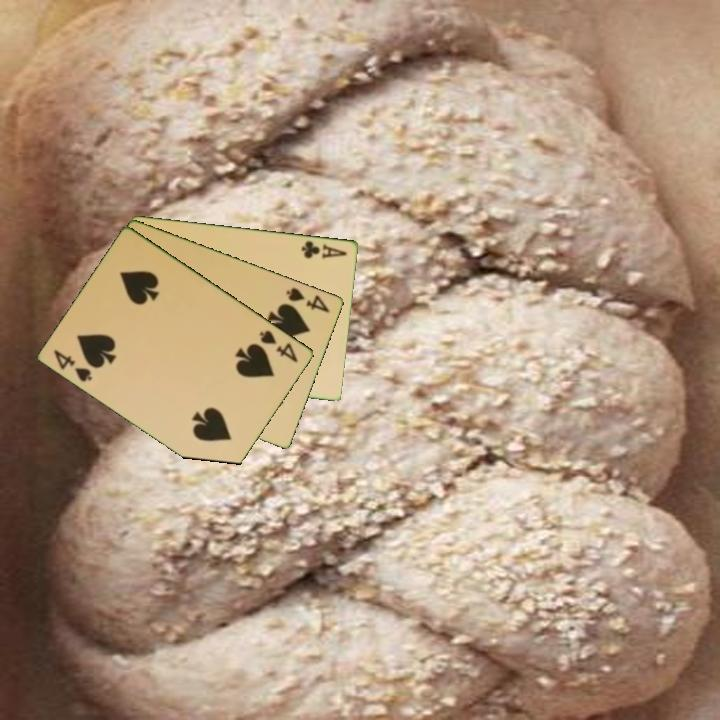4s: (256, 326, 301, 365), (50, 346, 95, 385), (282, 284, 333, 315)
Ac: (298, 237, 350, 261)
